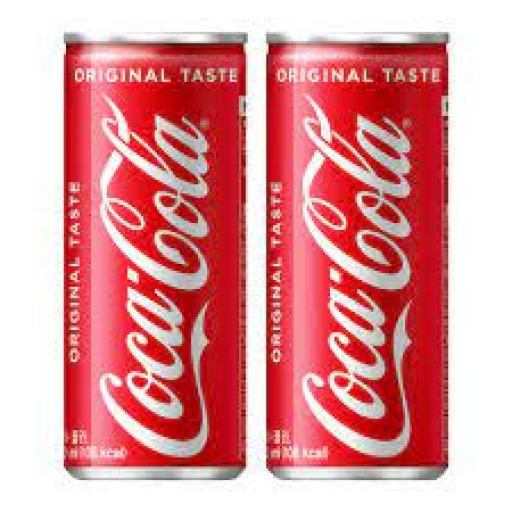Coca: (54, 25, 251, 484), (263, 24, 456, 487)
